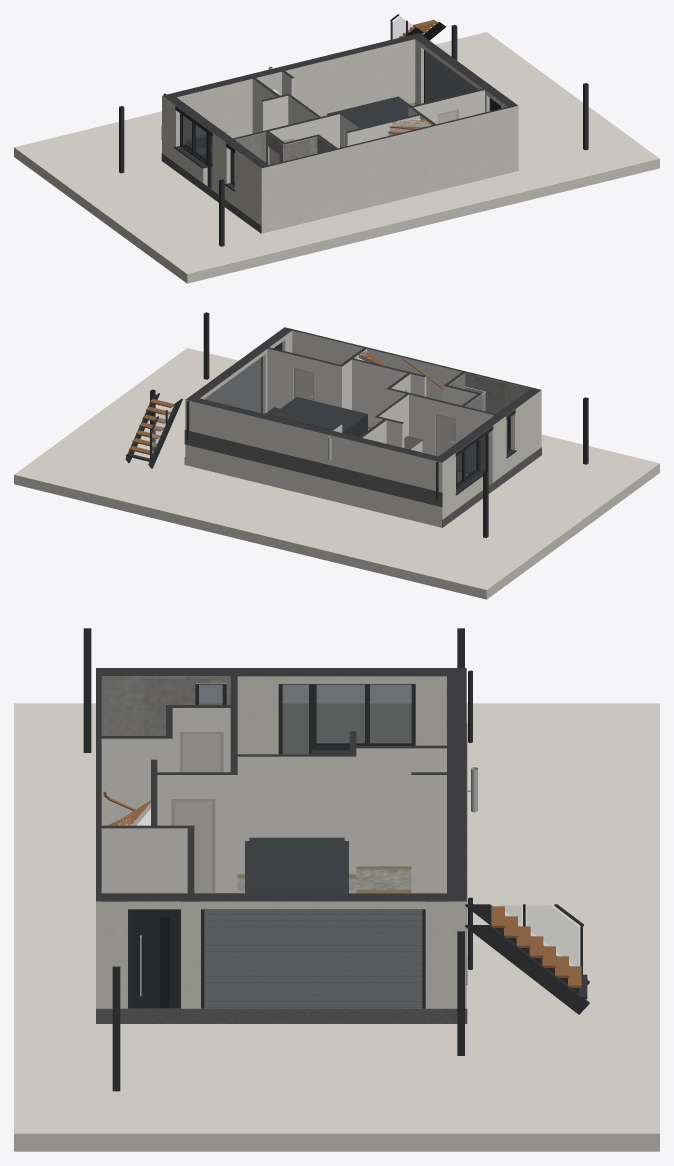
Rendered from dum_b_1pp.glb.
The picture shows the model from 3 angles, top to bottom: view 1: azimuth 30°, elevation 25°; view 2: azimuth 150°, elevation 25°; view 3: azimuth 270°, elevation 25°; orthographic projection. The views are drawn at different scales.
Visible parts, largest first — view 1: podstava, B_ext_omitka, B_int_omitka_int, rez_sten, B_ext_antracit, pevne_obklad, B_ext_vrata, auto_garaz, B_sklo_sklo, B_ext_sokl; view 2: podstava, B_ext_omitka, B_int_omitka_int, rez_sten, B_ext_sokl, B_ext_antracit, auto_garaz, B_ext_vrata, pevne_obklad, B_int_dvere, B_sklo_sklo, B_ext_drevo; view 3: podstava, B_int_omitka_int, B_ext_vrata, B_ext_omitka, rez_sten, B_ext_antracit, B_sklo_sklo, B_ext_sokl, auto_garaz, pevne_obklad, B_ext_dvere, B_int_dvere (+4 smaller).
Boxes of the visible parts, x1,y1,x2,y2 form: podstava: (14,32,659,283); B_ext_omitka: (162,39,518,233); B_int_omitka_int: (235,72,484,164); rez_sten: (162,33,517,168); B_ext_antracit: (119,14,588,246); pevne_obklad: (235,132,333,163); B_ext_vrata: (425,51,478,102); auto_garaz: (327,96,410,127); B_sklo_sklo: (181,115,234,189); B_ext_sokl: (161,126,261,233); podstava: (14,348,659,599); B_ext_omitka: (185,330,541,527); B_int_omitka_int: (267,349,493,472); rez_sten: (185,327,541,462); B_ext_sokl: (184,430,541,527); B_ext_antracit: (125,312,588,537); auto_garaz: (265,396,367,436); B_ext_vrata: (205,357,261,412); pevne_obklad: (449,373,529,413); B_int_dvere: (295,370,454,456); B_sklo_sklo: (456,418,508,486); B_ext_drevo: (129,399,174,454); podstava: (14,703,659,1151); B_int_omitka_int: (101,708,446,901); B_ext_vrata: (204,909,422,1008); B_ext_omitka: (96,676,466,1008); rez_sten: (96,668,466,901); B_ext_antracit: (83,628,589,1091); B_sklo_sklo: (160,684,411,1007); B_ext_sokl: (96,723,467,1023); auto_garaz: (245,837,348,893); pevne_obklad: (101,676,230,735); B_ext_dvere: (131,909,176,1008); B_int_dvere: (174,734,220,893).
Bounding box in the file's own units: 18.6 × 2.84 × 11.8.
34 materials, 8 textured.
